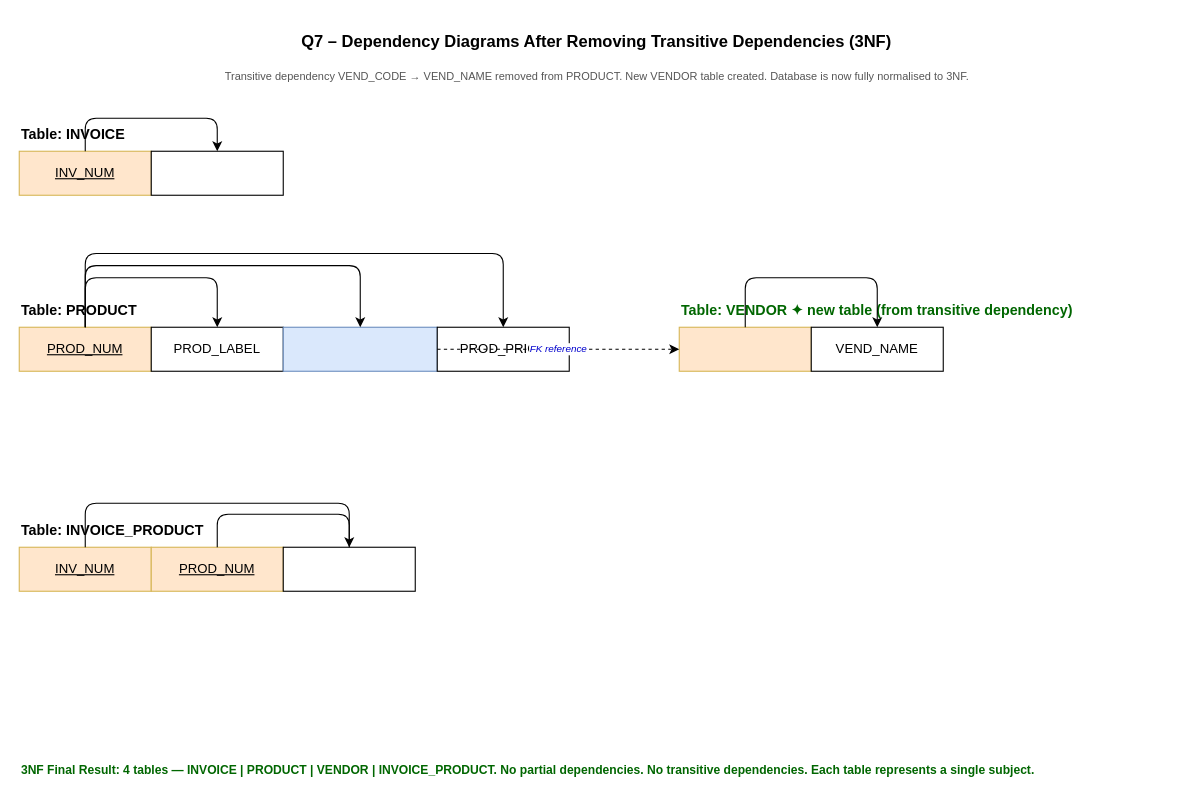
Image size: 1194x807. Some labels were removed from this diagram. Here are the shapes that lost their labels. From the top down, the centre of each, then its label:
(216,172): SALE_DATE
(359,348): VEND_CODE (FK)
(744,348): VEND_CODE
(348,568): QUANT_SOLD
